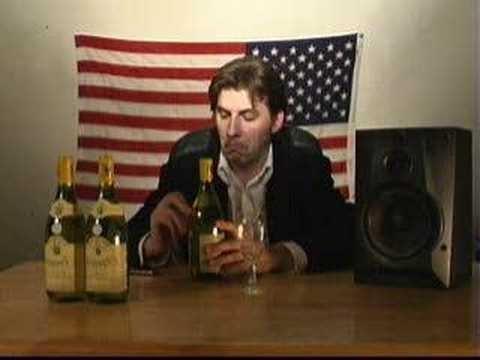Drunk: (216, 92, 263, 163)
